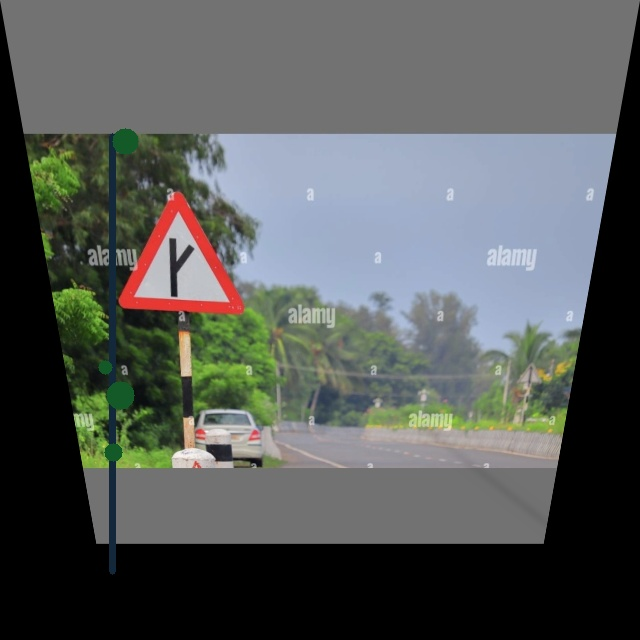Y_Intersection: (106, 186, 240, 316)
